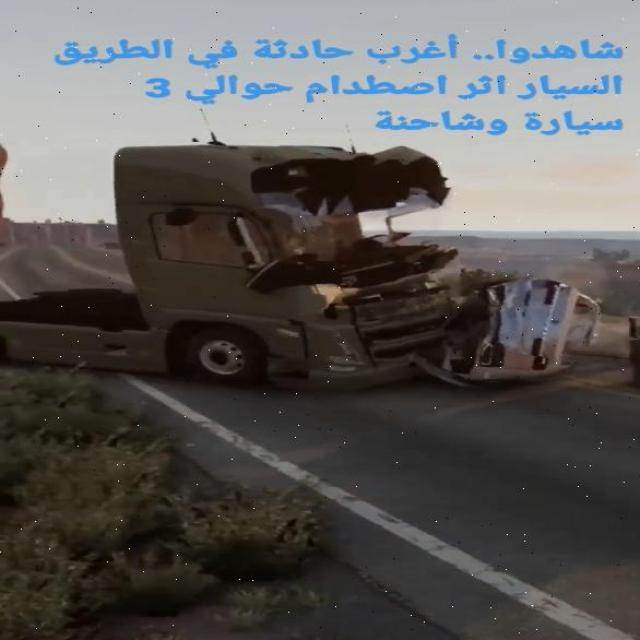accident: (101, 144, 605, 400)
